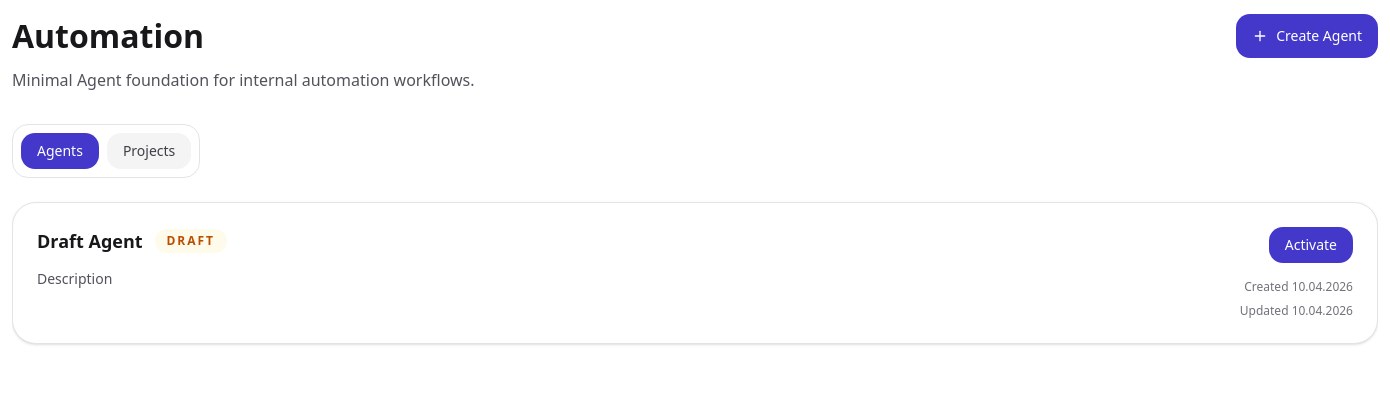
Test: AutomationPage › givenDraftAgent_whenActivateFails_thenShowsRecoverableError
This screenshot has width=1390, height=394.
Click the button "Activate".
click(1311, 245)  # box [1269,227,1353,263]
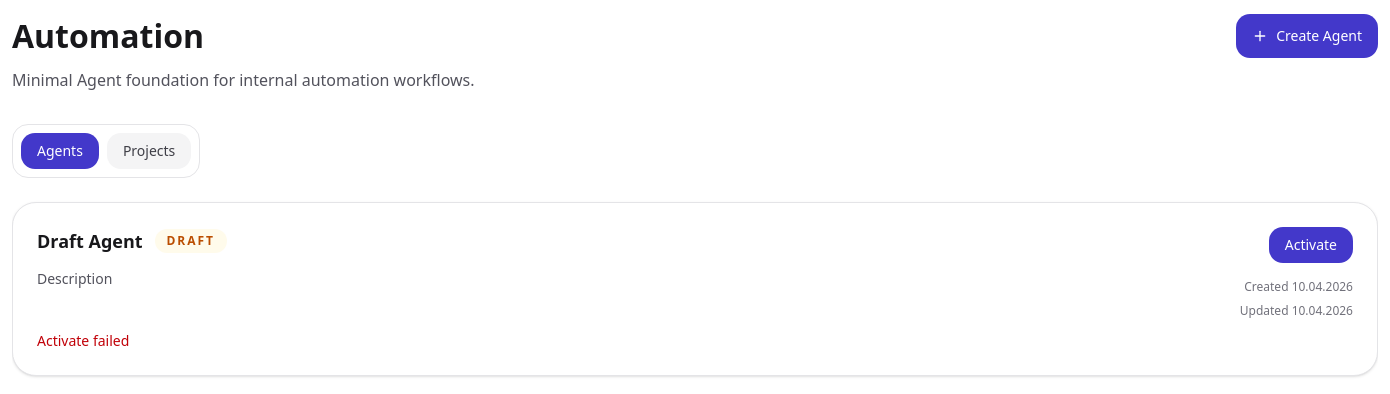
Now the text "Activate failed" is shown, box [37,331,129,350]
Click the button "Activate".
click(1311, 245)  # box [1269,227,1353,263]
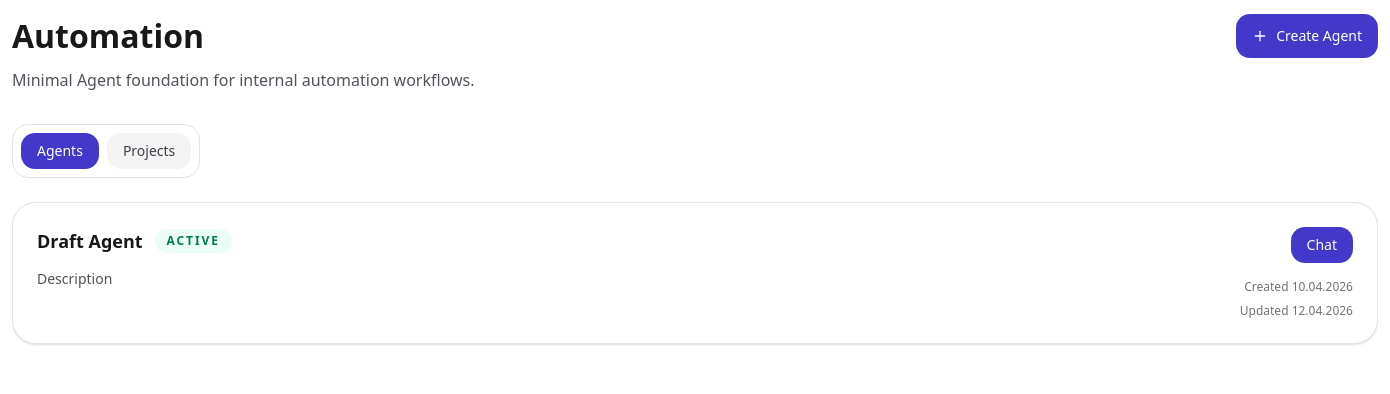
Now the button "Chat" is shown, box [1291,227,1353,263]
